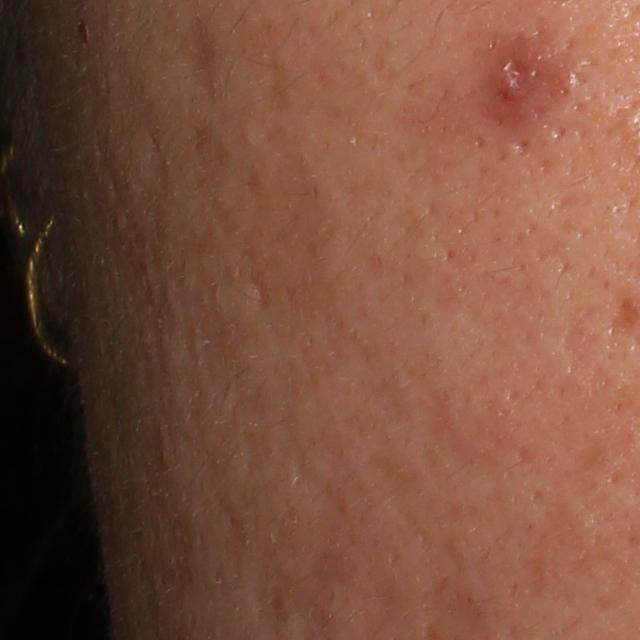atrophic_scar: (242, 262, 277, 313)
papule: (493, 64, 526, 109)
